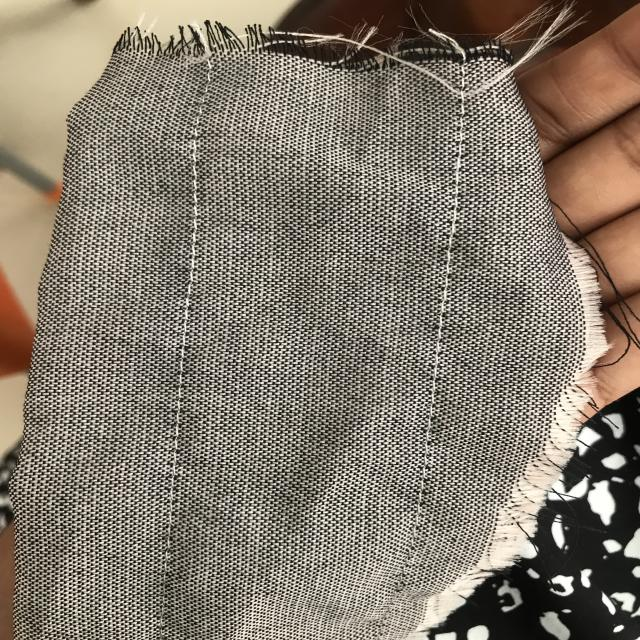good: (157, 299, 196, 468), (166, 142, 212, 276), (433, 153, 473, 255), (426, 279, 460, 383)
